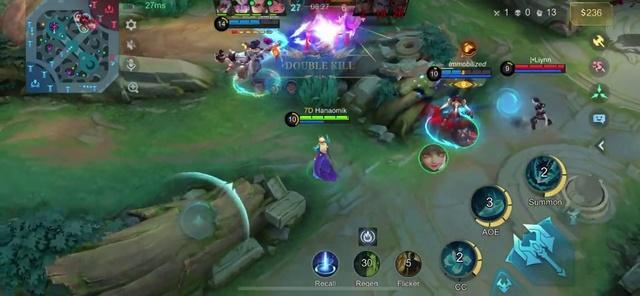bush: (163, 37, 464, 115)
hp_enemy: (515, 63, 565, 70)
hp_self: (299, 116, 352, 122)
